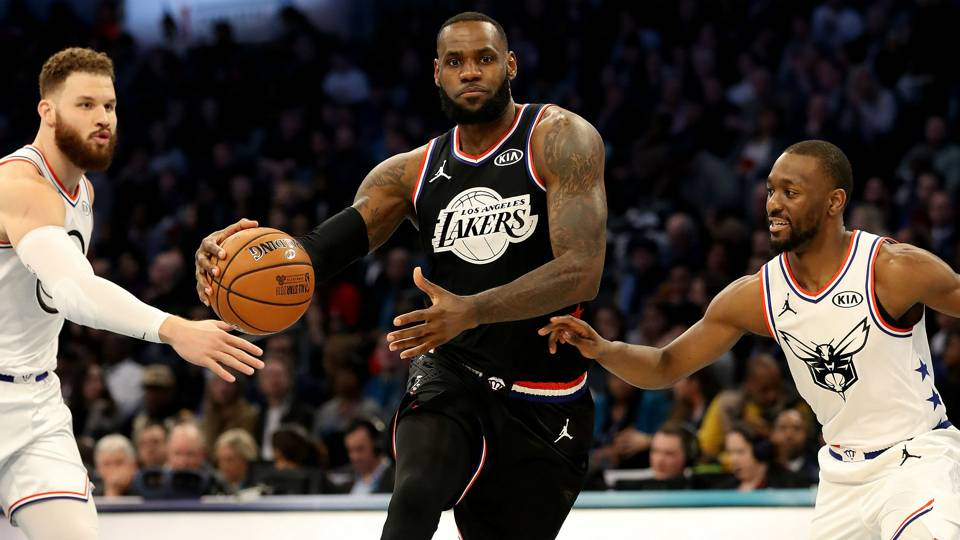Basketball: (207, 223, 315, 339)
